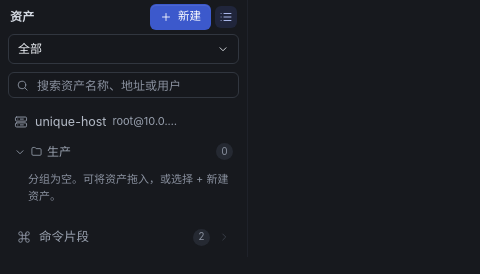
it: asset group controls › shows each host identity and remembers compact asset rows
The image size is (480, 274).
Click the button named "视图". click: click(226, 17)
box: left=215, top=6, right=237, bottom=28
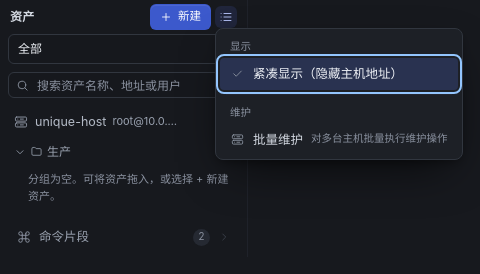
Click the menu item "紧凑显示（隐藏主机地址）". click: click(339, 74)
box: left=220, top=58, right=458, bottom=90
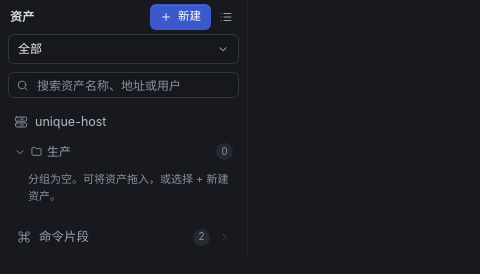
Expected: the text "unique-host" is shown, left=35, top=112, right=106, bottom=132
Now the text "root@10.0.0.8:22" is gone
Click the button named "视图". click: click(226, 17)
box: left=215, top=6, right=237, bottom=28
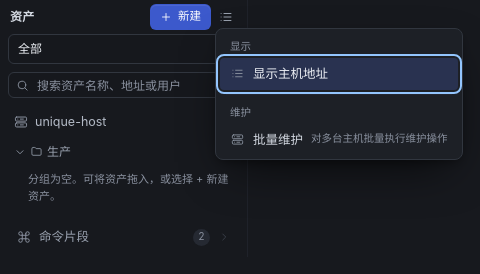
Click the menu item "显示主机地址". click: click(339, 74)
box: left=220, top=58, right=458, bottom=90
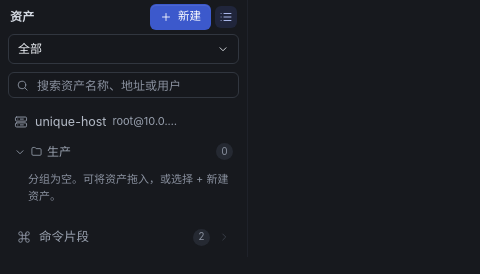
Now the text "root@10.0.0.8:22" is shown, box left=112, top=114, right=180, bottom=130
